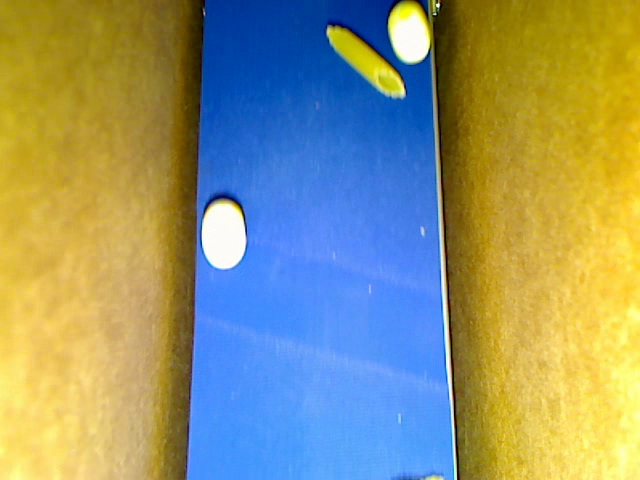penne: (326, 26, 405, 99)
